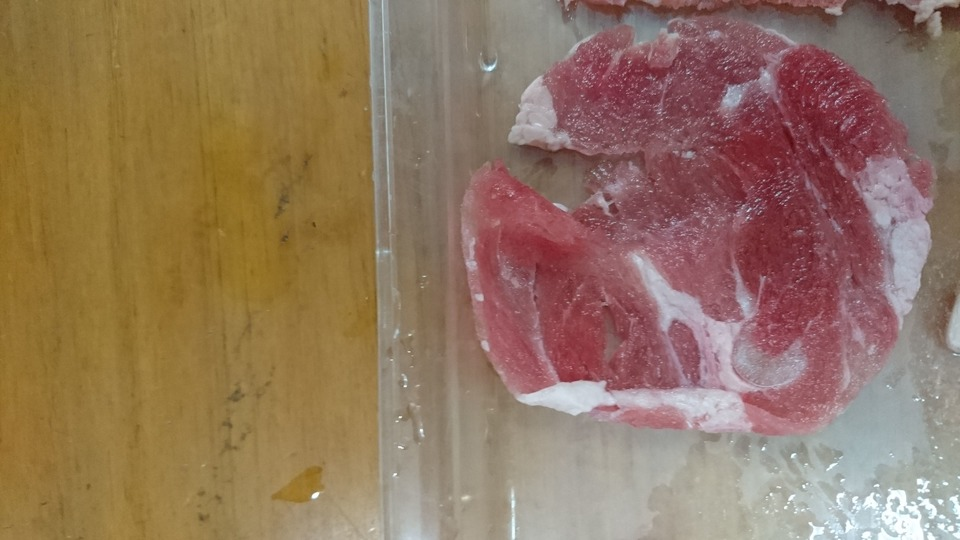restructured meat: (458, 8, 936, 453)
